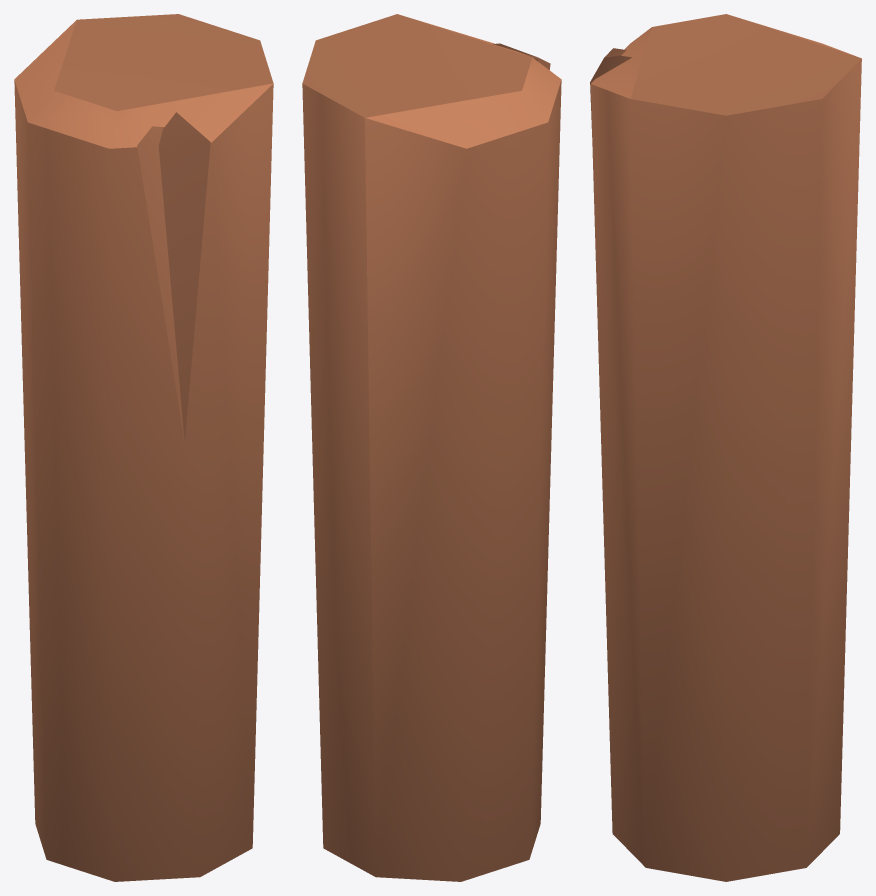
Rendered from fence_.glb.
3 views of the same model, side by side, from view 1: azimuth 30°, elevation 25°; view 2: azimuth 150°, elevation 25°; view 3: azimuth 270°, elevation 25° (orthographic).
Visible parts, largest first — view 1: fence; view 2: fence; view 3: fence.
Part boxes in pixels (<box>): fence: <box>14,14,273,881</box>; fence: <box>302,14,561,881</box>; fence: <box>590,14,861,881</box>.
Bounding box in the file's own units: 0.2468 × 0.7784 × 0.2473.
Materials: 1 (1 with a texture image).
